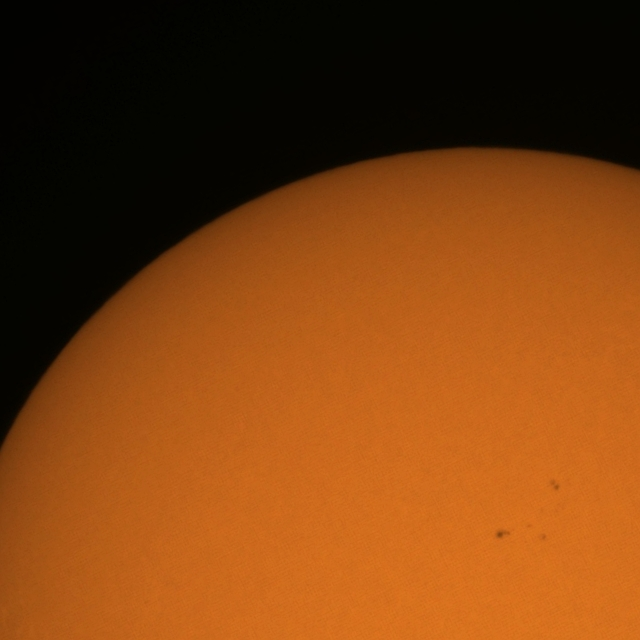sunspot: (494, 528, 514, 540), (549, 478, 561, 492)
